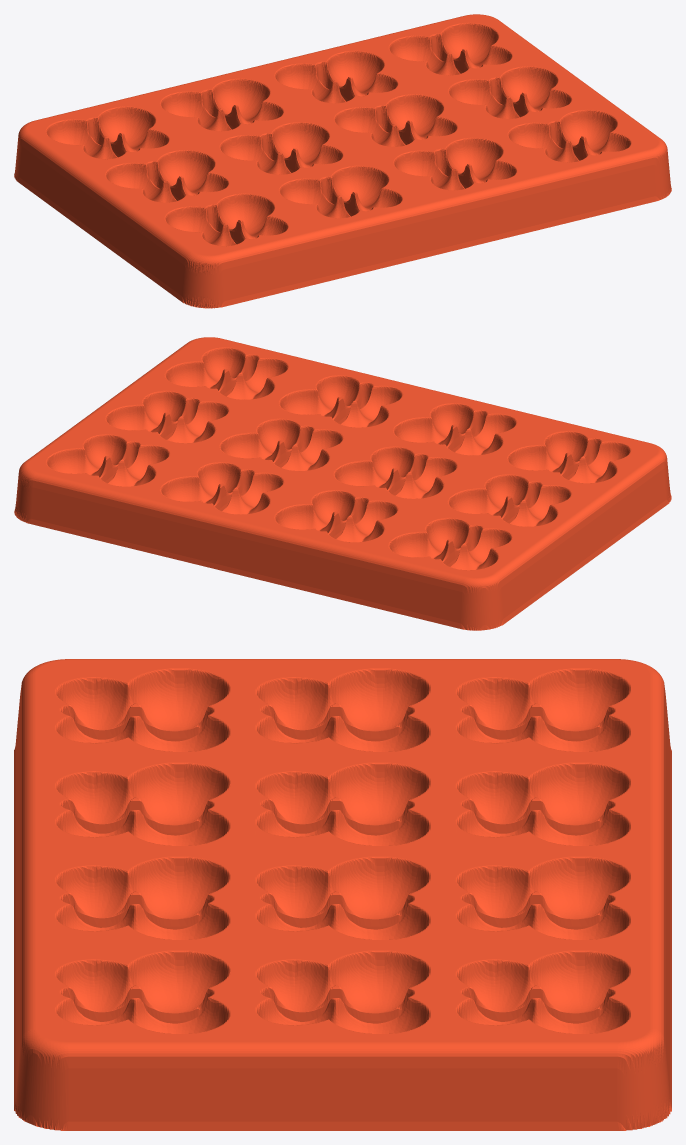
Rendered from mold.glb.
3 views of the same model, one above another, from view 1: azimuth 30°, elevation 25°; view 2: azimuth 150°, elevation 25°; view 3: azimuth 270°, elevation 25° (orthographic). The views are drawn at different scales.
Parts seen in each view (by area): view 1: geometry_0; view 2: geometry_0; view 3: geometry_0.
Boxes of the visible parts, x1=… form: geometry_0: x1=14, y1=14, x2=671, y2=308; geometry_0: x1=14, y1=337, x2=671, y2=630; geometry_0: x1=14, y1=659, x2=671, y2=1130.
Bounding box in the file's own units: 0.1558 × 0.0145 × 0.1083.
